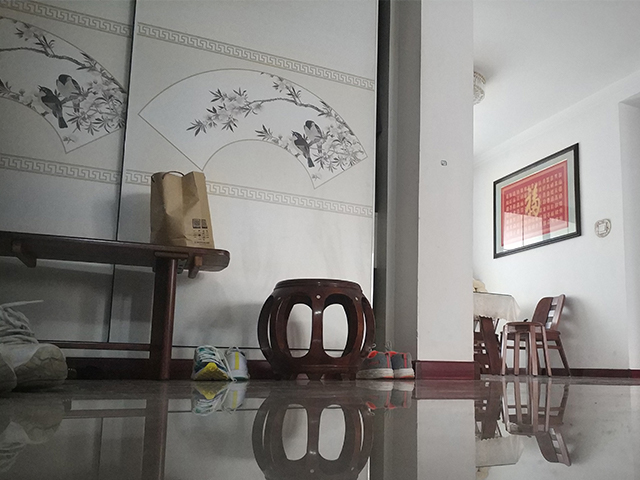stool: (255, 276, 377, 382), (499, 293, 576, 377), (498, 320, 553, 378)
